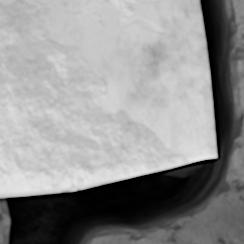brick: (0, 0, 214, 196)
crack: (2, 0, 241, 243)
